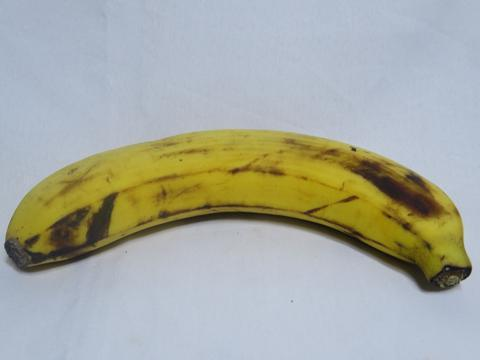overripe: (0, 120, 472, 313)
